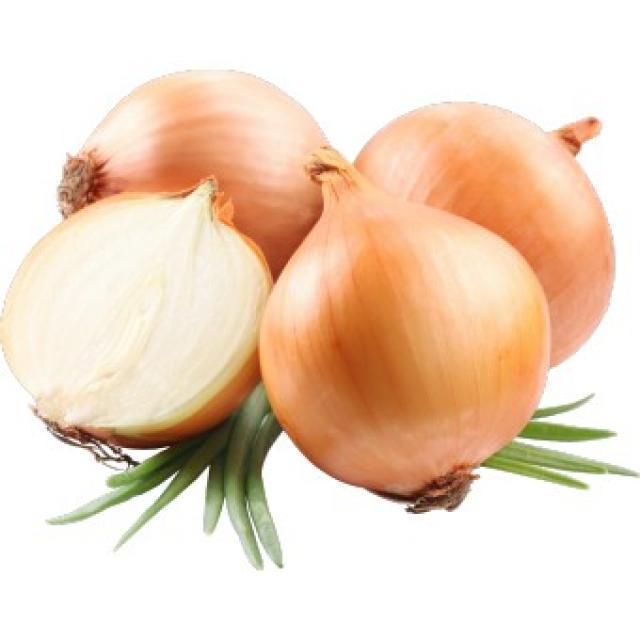Onion: (259, 142, 550, 511), (0, 169, 272, 470), (353, 100, 616, 364), (57, 65, 336, 287), (48, 382, 293, 568), (480, 394, 640, 489)
